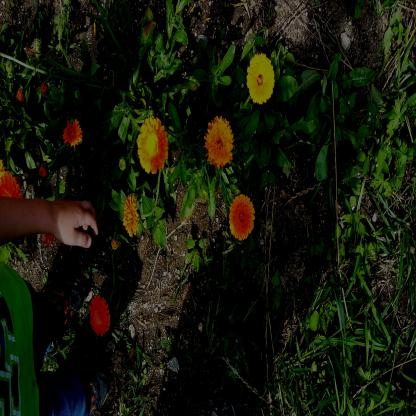marigold: (139, 120, 166, 170), (206, 117, 232, 167), (249, 54, 272, 102), (230, 193, 254, 238), (0, 170, 21, 218), (90, 295, 110, 335), (122, 193, 138, 237), (64, 122, 84, 144)
